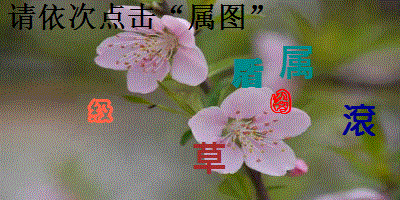result: (187, 3, 248, 33)
text: (341, 101, 379, 141), (280, 42, 316, 82), (191, 140, 228, 178), (231, 56, 265, 90), (86, 98, 116, 123), (269, 88, 294, 115)
